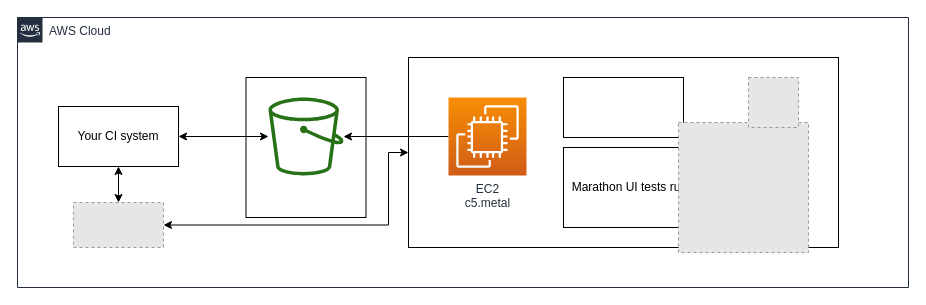
This 926x305 diagram has some shape labels left out. Grey dashed boxes stand in for pictures. Each missing label, with the centre of its shape:
Amazon S3 Bucket: [305,136]
~40 Android Emulators: [623,107]
